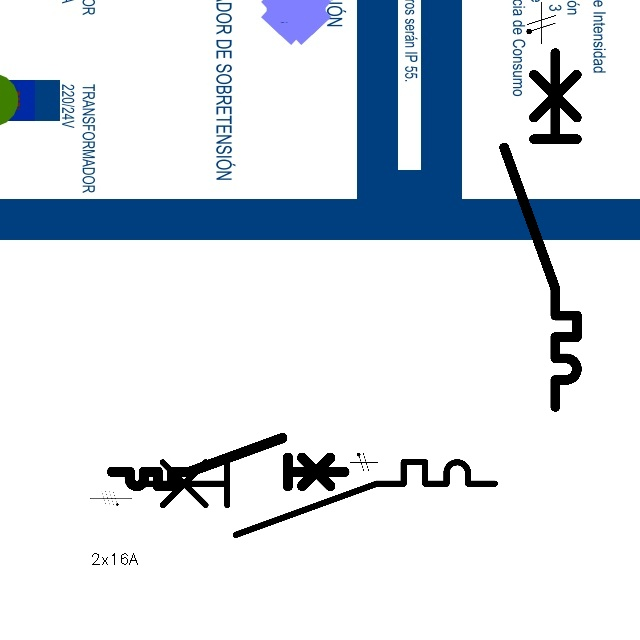interruptor_termomagnetico: (495, 44, 586, 416), (132, 453, 504, 544), (106, 432, 351, 492)
